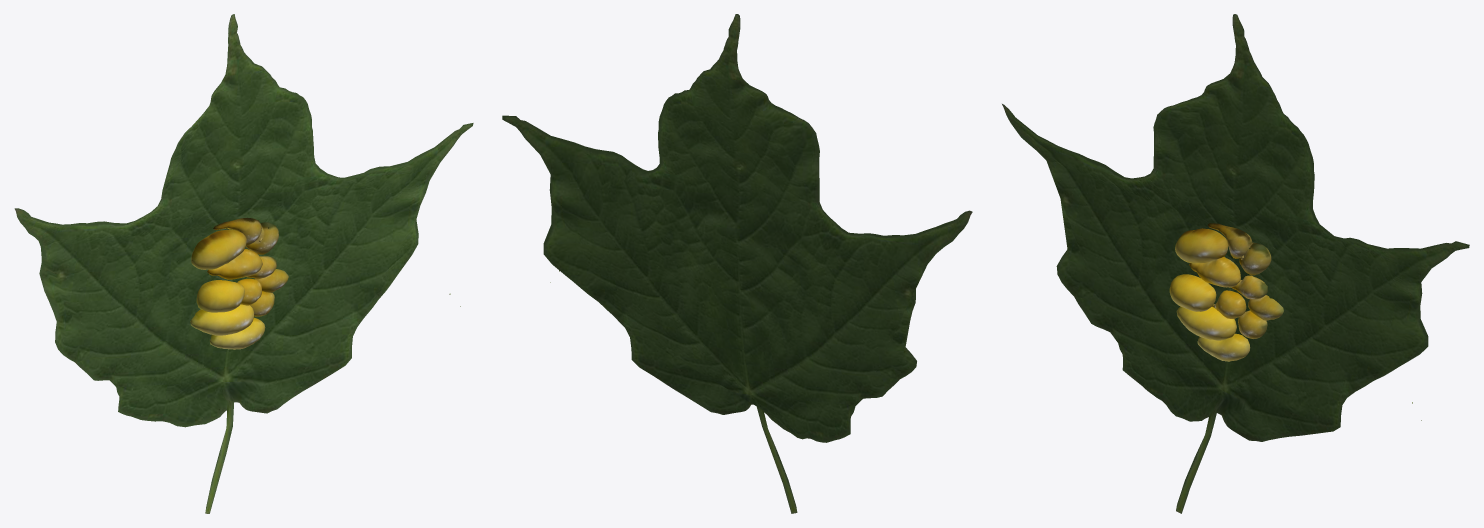
The model's file is egg butterfly (2).FBX.
The picture shows the model from 3 angles, left to right: view 1: azimuth 30°, elevation 25°; view 2: azimuth 150°, elevation 25°; view 3: azimuth 330°, elevation 25°; orthographic projection. The views are drawn at different scales.
Visible parts, largest first — view 1: level, default; view 2: level; view 3: level, default.
Part boxes in pixels (left/top/right/bottom): level: left=14, top=14, right=473, bottom=513; default: left=190, top=218, right=460, bottom=349; level: left=502, top=14, right=972, bottom=513; level: left=1002, top=14, right=1469, bottom=513; default: left=1169, top=223, right=1421, bottom=420.
Size of the model in its own units: 23.63 by 23.83 by 3.25.
2 materials, 2 textured.
